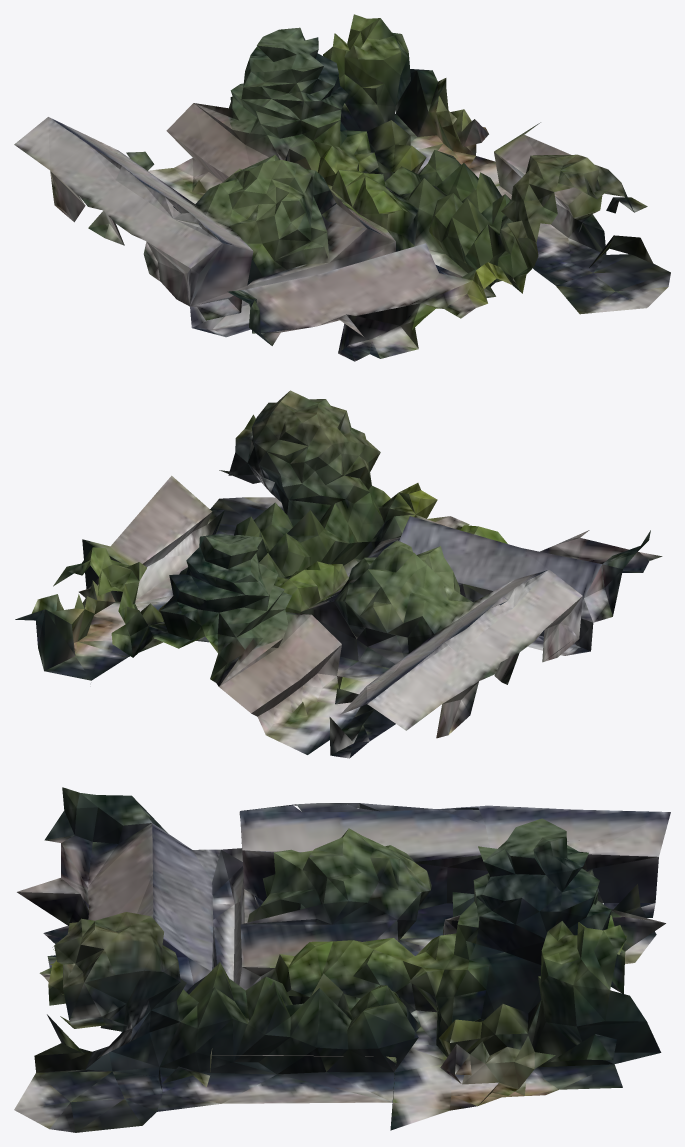
The model's file is Tile_+002_+002_L17_00.glb.
3 renders of one model, top to bottom at view 1: azimuth 30°, elevation 25°; view 2: azimuth 150°, elevation 25°; view 3: azimuth 270°, elevation 25°, orthographic. The views are drawn at different scales.
Size of the model in its own units: 58.17 by 19.73 by 61.11.
1 material, 1 textured.
